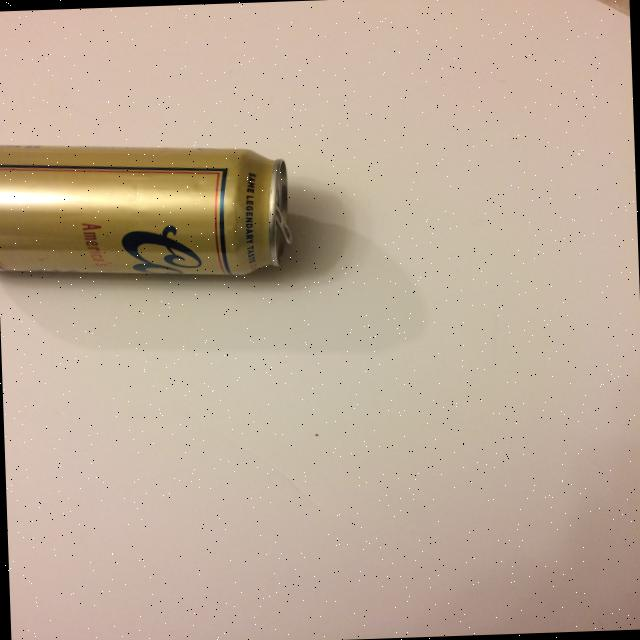metal: (0, 132, 294, 284)
